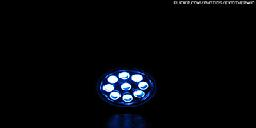LED: (98, 70, 157, 107)
